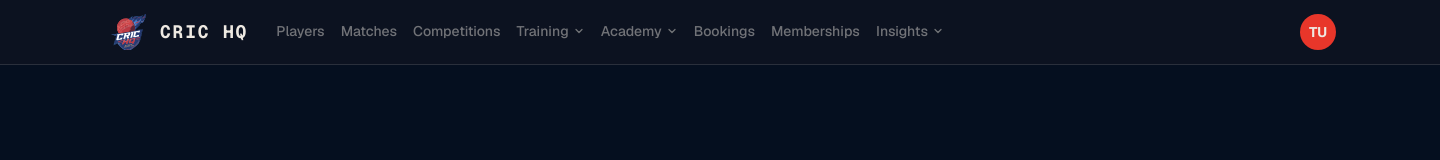
Test: NavBar › Escape closes an open nav group dropdown
Click the button "Training" at [551, 32], box [508,21,593,43]
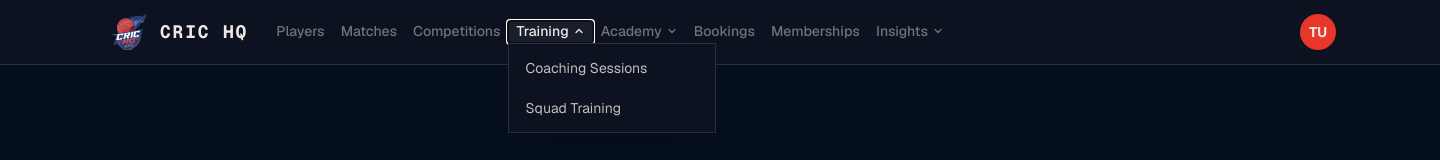
Result: the link "Squad Training" is shown at [526,99,621,117]
Press Escape
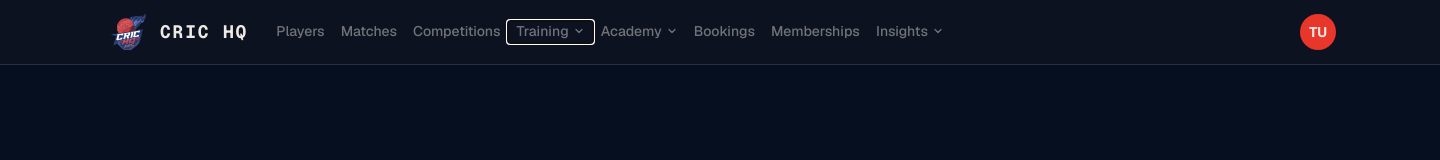
Result: the link "Squad Training" is gone
